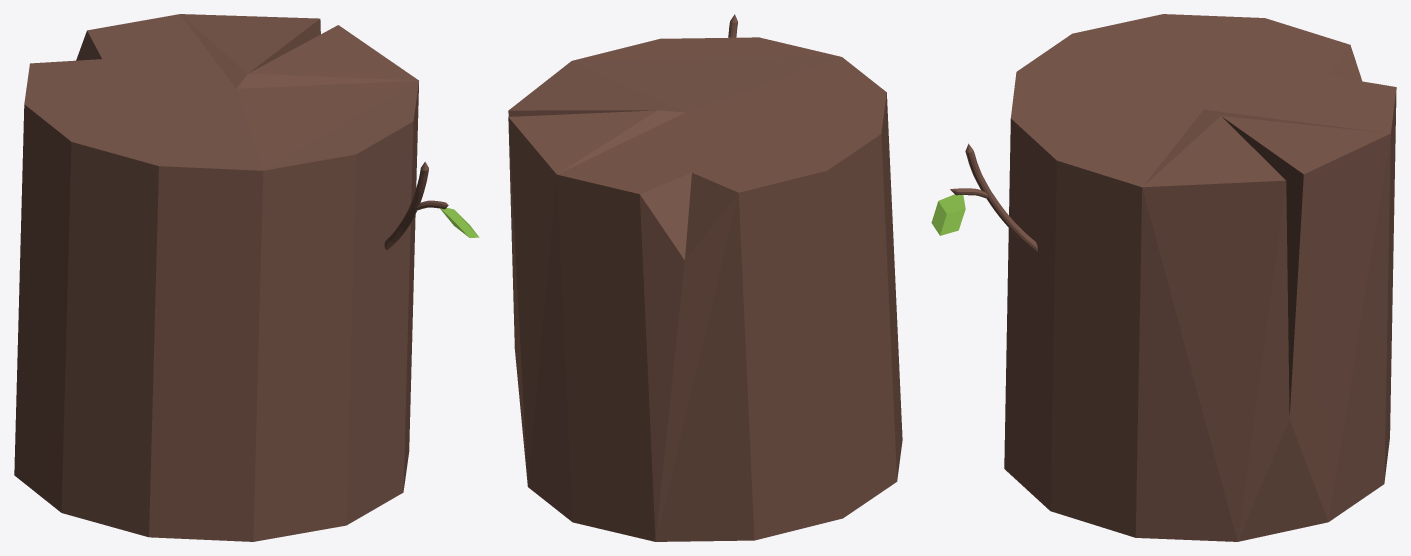
The picture shows the model from 3 angles, left to right: view 1: azimuth 30°, elevation 25°; view 2: azimuth 150°, elevation 25°; view 3: azimuth 270°, elevation 25°; orthographic projection. The views are drawn at different scales.
Visible parts, largest first — view 1: mesh_1395029816, group_438302605; view 2: mesh_1395029816; view 3: mesh_1395029816, group_438302605.
Part boxes in pixels (x1,y1,x2,y2): mesh_1395029816: [14, 14, 418, 541]; group_438302605: [384, 161, 479, 250]; mesh_1395029816: [508, 37, 902, 541]; mesh_1395029816: [1004, 14, 1396, 541]; group_438302605: [931, 143, 1037, 252].
Bounding box in the file's own units: 24.12 × 25.04 × 28.41.
